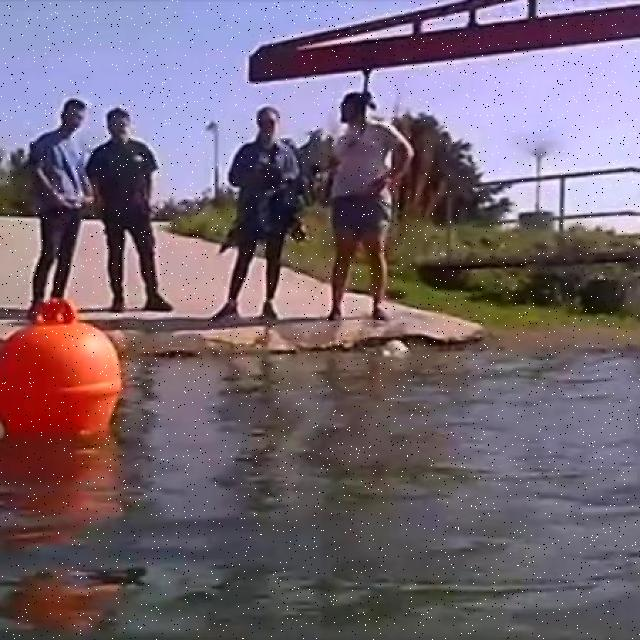buoy: (0, 296, 124, 442)
